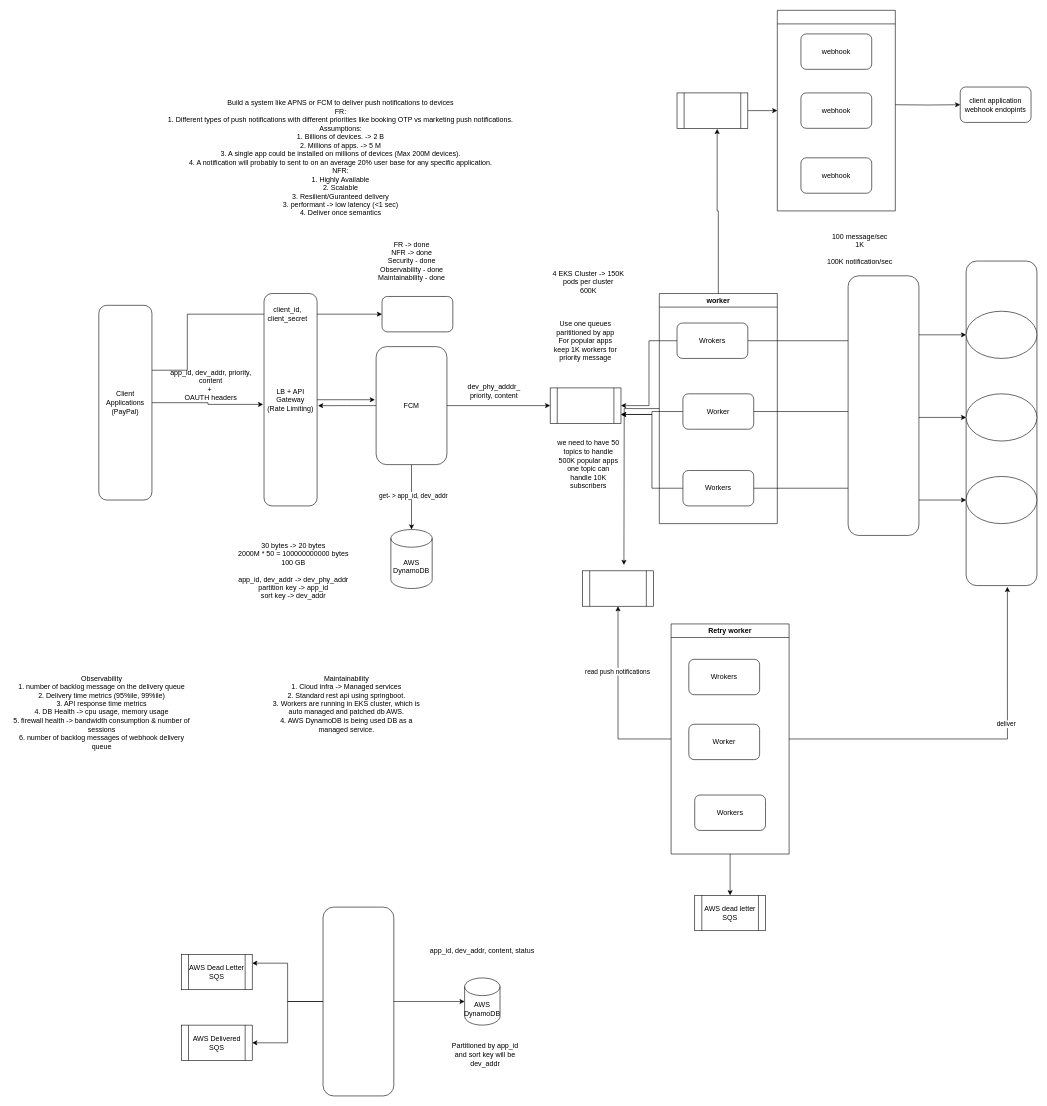
Image size: 1047x1106. Some labels were removed from this diagram. Here are the shapes that lost their labels. From the top down, the centre of each, then its label:
At pixel 712 110: "AWS SQS Delivered".
At pixel 836 110: "Webhook delivery workers".
At pixel 417 314: "Token Service".
At pixel 1001 334: "d1".
At pixel 585 405: "AWS SQS".
At pixel 883 405: "Firewall (malicious devices number of sessions N/W bandwidth)".
At pixel 1001 417: "d2".
At pixel 1001 500: "d3".
At pixel 617 588: "AWS Retry SQS".
At pixel 358 1001: "Audit Service".
